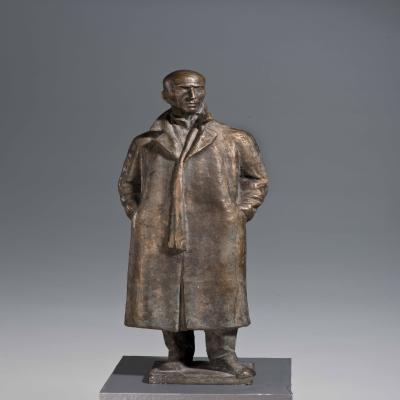sculpture: (118, 70, 269, 386)
